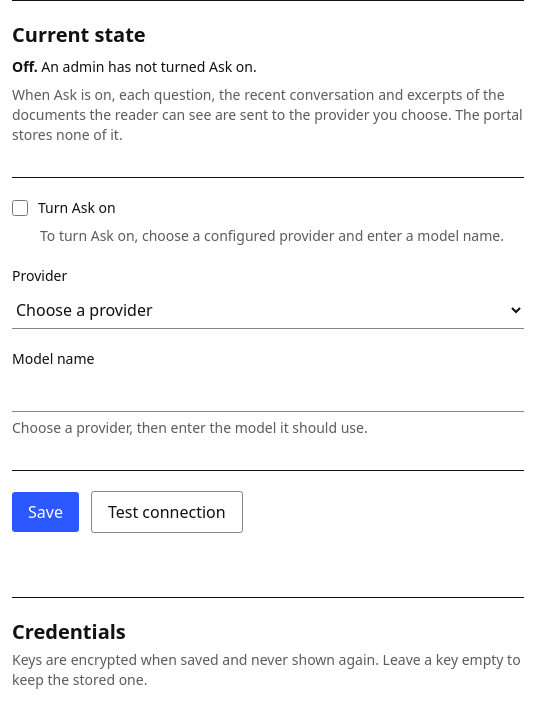
Test: AskSettingsForm › will not turn Ask on without a provider or a model
Click the switch labelled "Turn Ask on": (20, 208) [12,200,28,216]
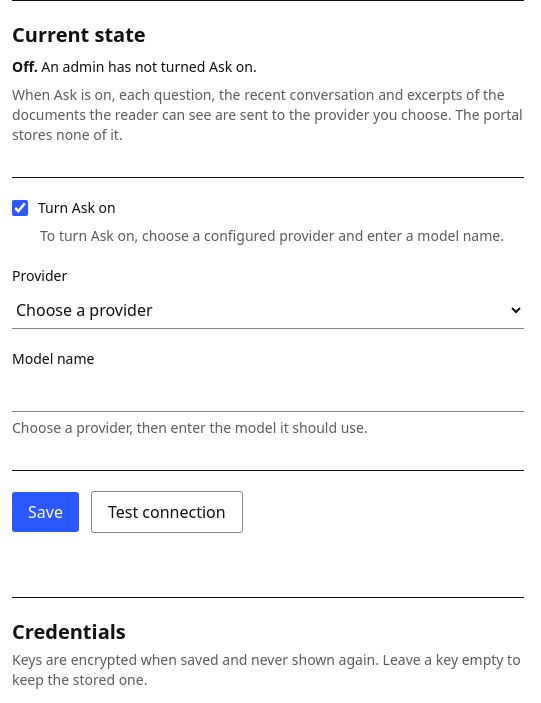
Click the button "Save": (45, 512) [12,492,79,532]
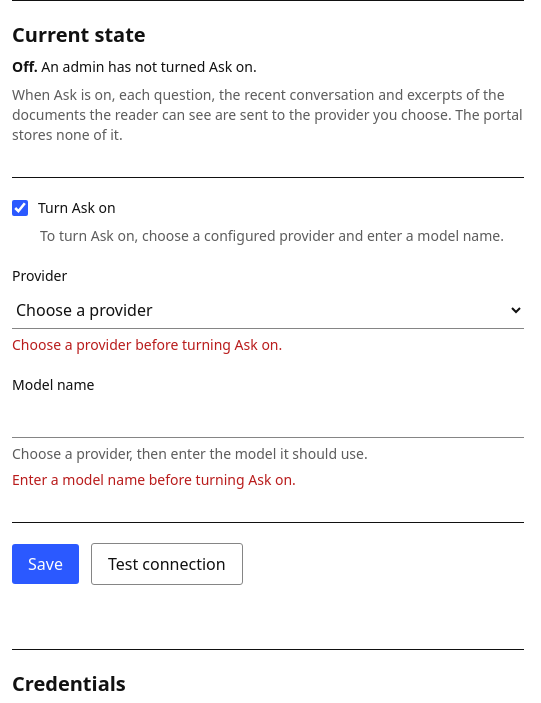
Result: the messages read "Choose a provider before turning Ask on.", "Enter a model name before turning Ask on.", in this order at [12,335,282,354]; [12,470,296,489]
